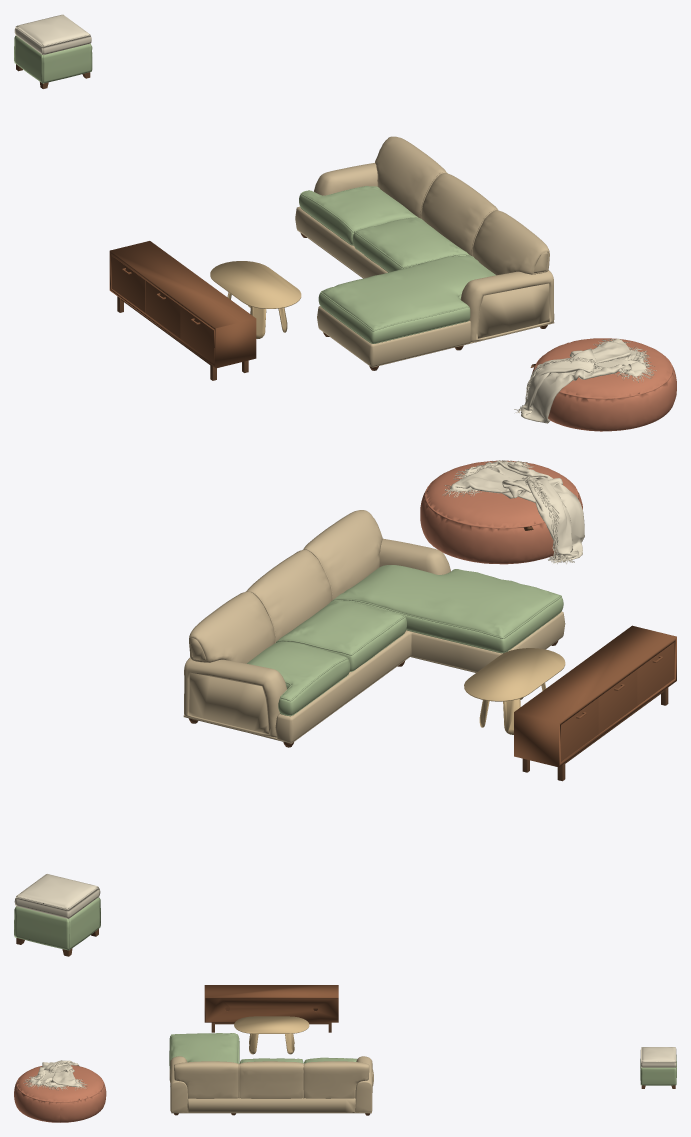
Rendered from furniture_living.glb.
3 views of the same model, one above another, from view 1: azimuth 30°, elevation 25°; view 2: azimuth 150°, elevation 25°; view 3: azimuth 270°, elevation 25° (orthographic). The views are drawn at different scales.
Visible parts, largest first — view 1: couch, cushions, cabinet, pouf, base, blanket, table-017, pouf.001, cushion; view 2: couch, cushions, cabinet, pouf, base, blanket, table-017, pouf.001, cushion; view 3: couch, cabinet, pouf, base, cushions, table-017, blanket, cushion, pouf.001, top.
Boxes of the visible parts, box(x1,y1,x2,y2) form: couch: box(314, 136, 554, 341); cushions: box(299, 186, 495, 343); cabinet: box(109, 241, 256, 368); pouf: box(532, 338, 676, 431); base: box(295, 206, 471, 366); blanket: box(514, 338, 656, 423); table-017: box(210, 261, 301, 338); pouf.001: box(14, 35, 92, 83); cushion: box(14, 14, 91, 54); couch: box(184, 510, 450, 737); cushions: box(247, 565, 563, 716); cabinet: box(514, 625, 676, 767); pouf: box(420, 460, 582, 564); base: box(275, 611, 565, 742); blanket: box(442, 460, 584, 564); table-017: box(464, 648, 565, 734); pouf.001: box(14, 897, 100, 950); cushion: box(14, 874, 100, 918); couch: box(170, 1056, 372, 1112); cabinet: box(204, 985, 338, 1022); pouf: box(14, 1065, 106, 1122); base: box(169, 1069, 373, 1112); cushions: box(169, 1033, 357, 1069); table-017: box(234, 1016, 309, 1054); blanket: box(23, 1060, 87, 1090); cushion: box(640, 1047, 676, 1067); pouf.001: box(640, 1055, 676, 1085); top: box(171, 1112, 371, 1113).
Bounding box in the file's own units: 3.73 × 0.8771 × 10.03.
